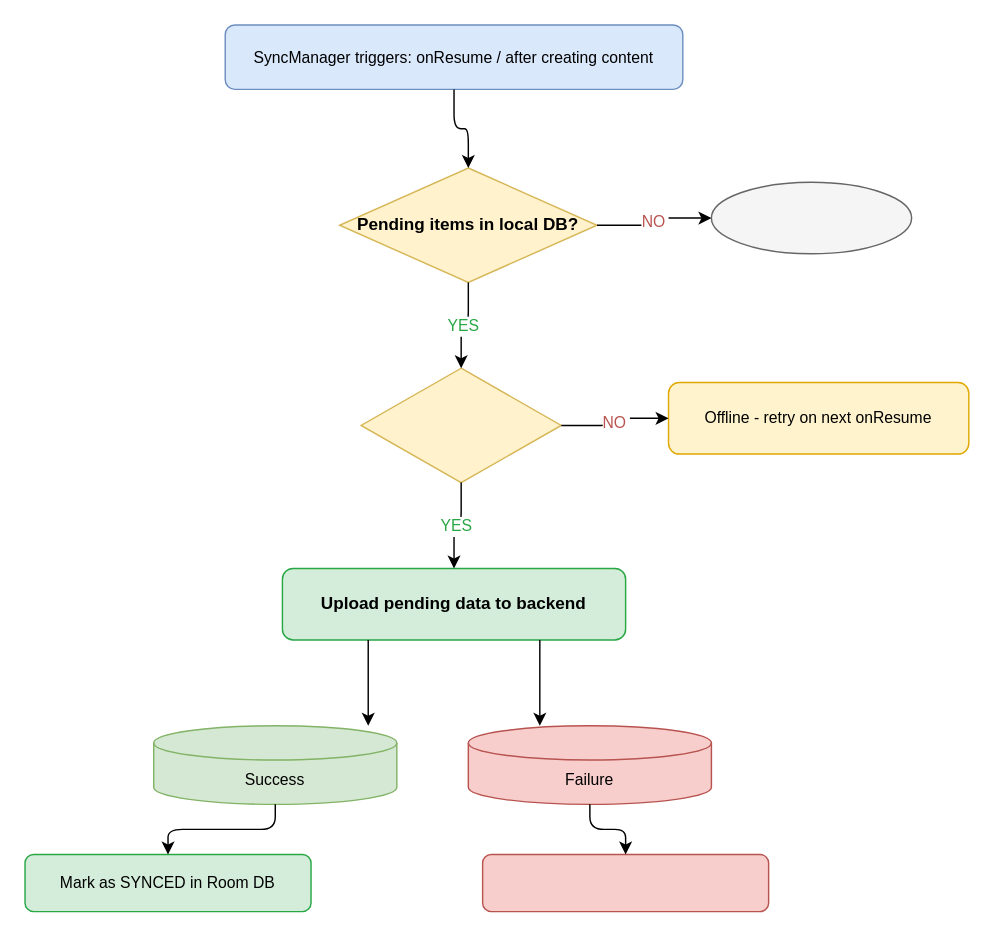
This 994x937 diagram has some shape labels left out. The box of each missing label's shape, as (x1, y1, x2, y2) in pixels:
Device online?: (360, 367, 561, 483)
Mark as FAILED (will retry later): (481, 853, 769, 912)
No sync needed: (710, 181, 912, 254)
